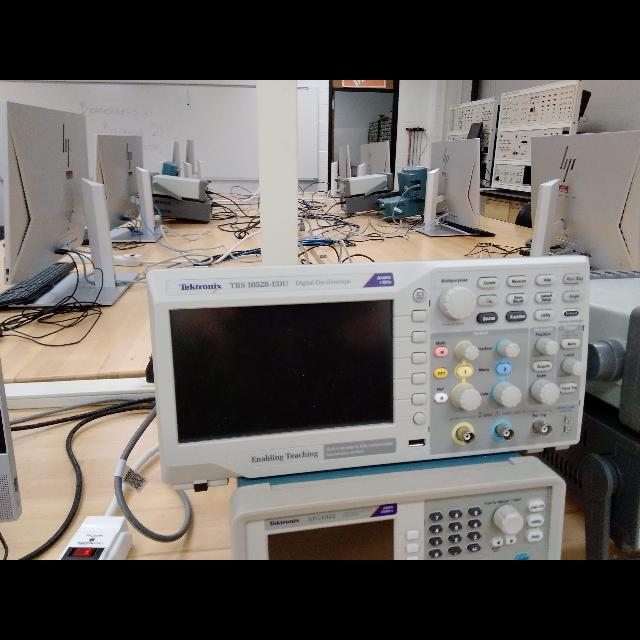Digital-Oscilloscope: (151, 257, 585, 486)
